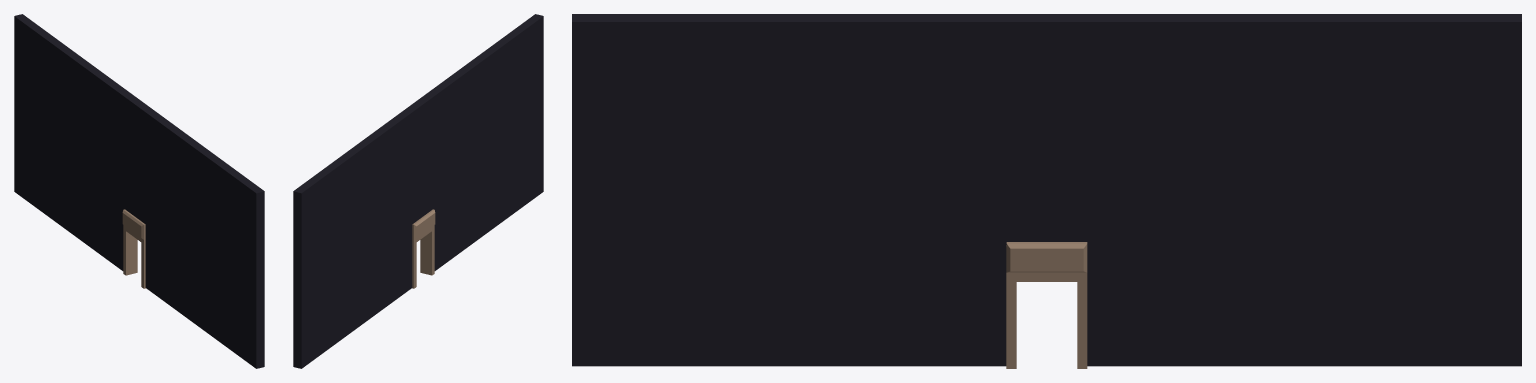
The model's file is w_r_west_wall.glb.
3 renders of one model, left to right at view 1: azimuth 30°, elevation 25°; view 2: azimuth 150°, elevation 25°; view 3: azimuth 270°, elevation 25°, orthographic. The views are drawn at different scales.
Visible parts, largest first — view 1: BaseWall, Frame; view 2: BaseWall, Frame; view 3: BaseWall, Frame.
Boxes of the visible parts, x1,y1,x2,y2 form: BaseWall: [14, 14, 264, 368]; Frame: [122, 209, 145, 288]; BaseWall: [293, 14, 543, 368]; Frame: [412, 209, 435, 288]; BaseWall: [572, 14, 1521, 366]; Frame: [1006, 242, 1087, 368].
Bounding box in the file's own units: 1.8 × 20.06 × 50.
